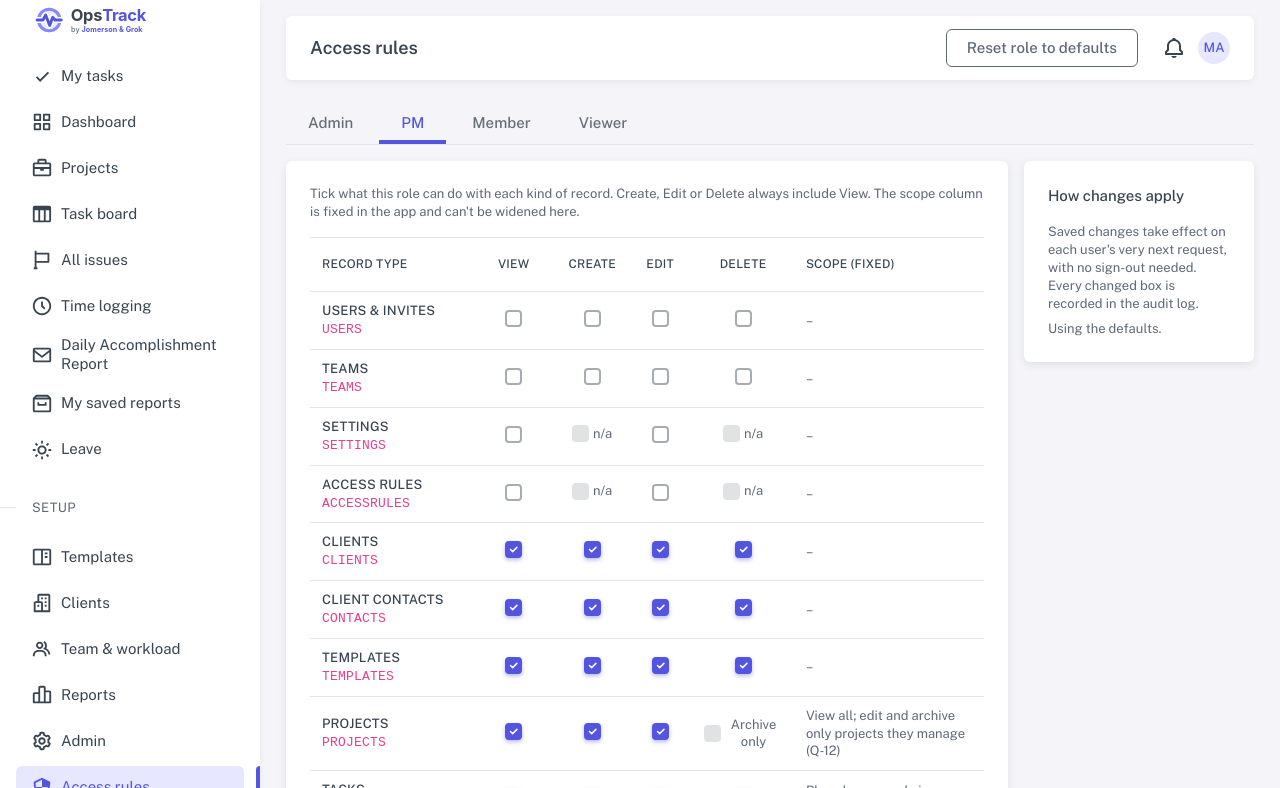
Test case: Access rules screen (doc 11, mockup v0.5.2) › FR-ACL-11 save asks for confirmation, then PUTs only changed rows with the version
The image size is (1280, 788).
Expected: the text "clients" is shown, [322,553,378,568]
Click the checkbox named "Delete Clients": [743, 550] box [735,541,752,558]
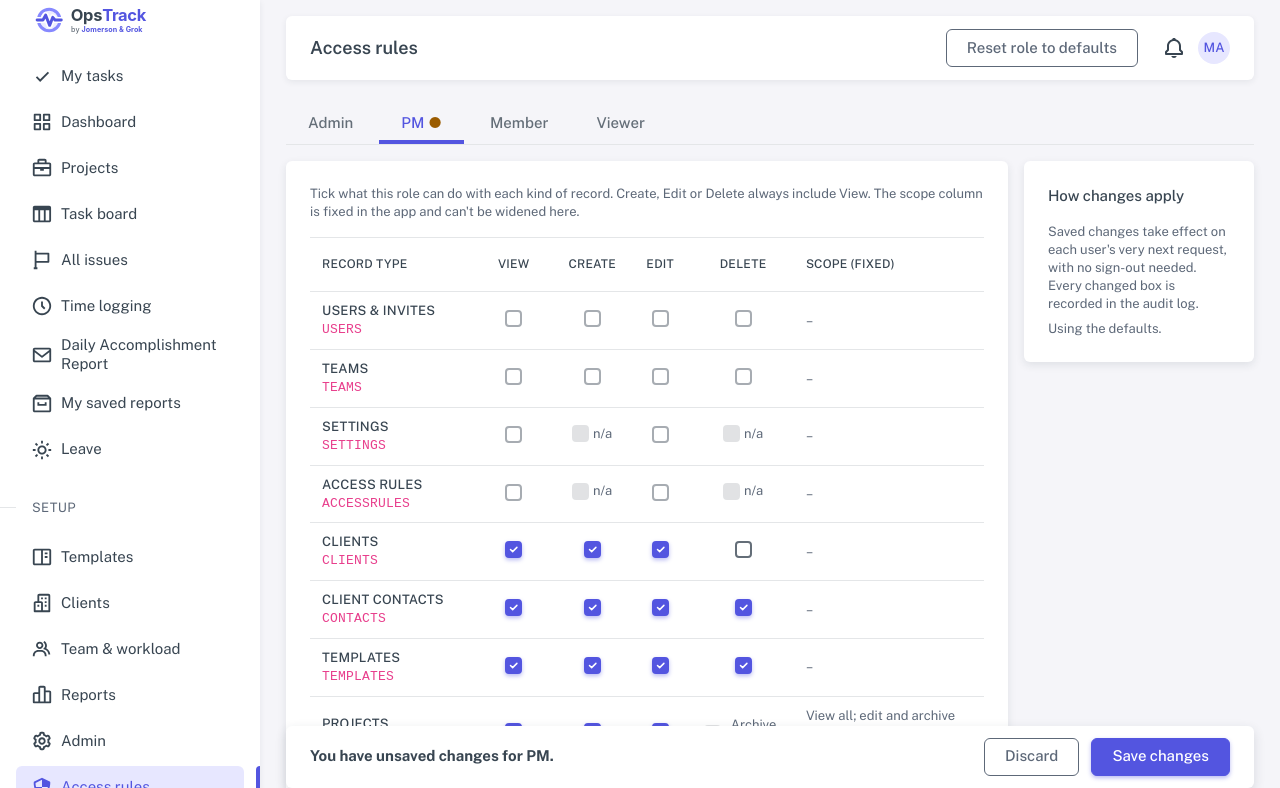
Click the button "Save changes": [1161, 757] box [1091,738,1230,776]
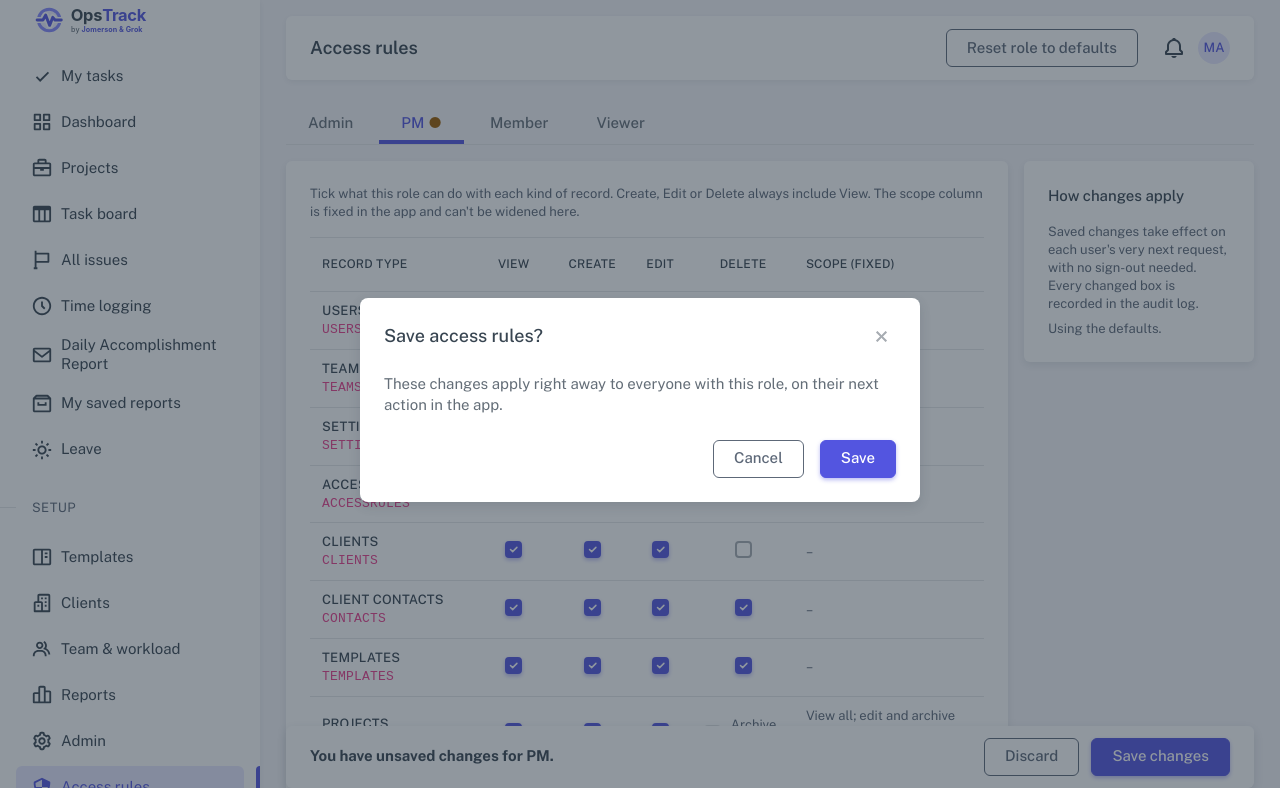
Now the heading "Save access rules?" is shown, box [384,324,543,349]
Now the text "apply right away to everyone with this role, on their next action" is shown, box [384,375,879,413]
Click the button "Save": [858, 459] box [820,440,896,478]
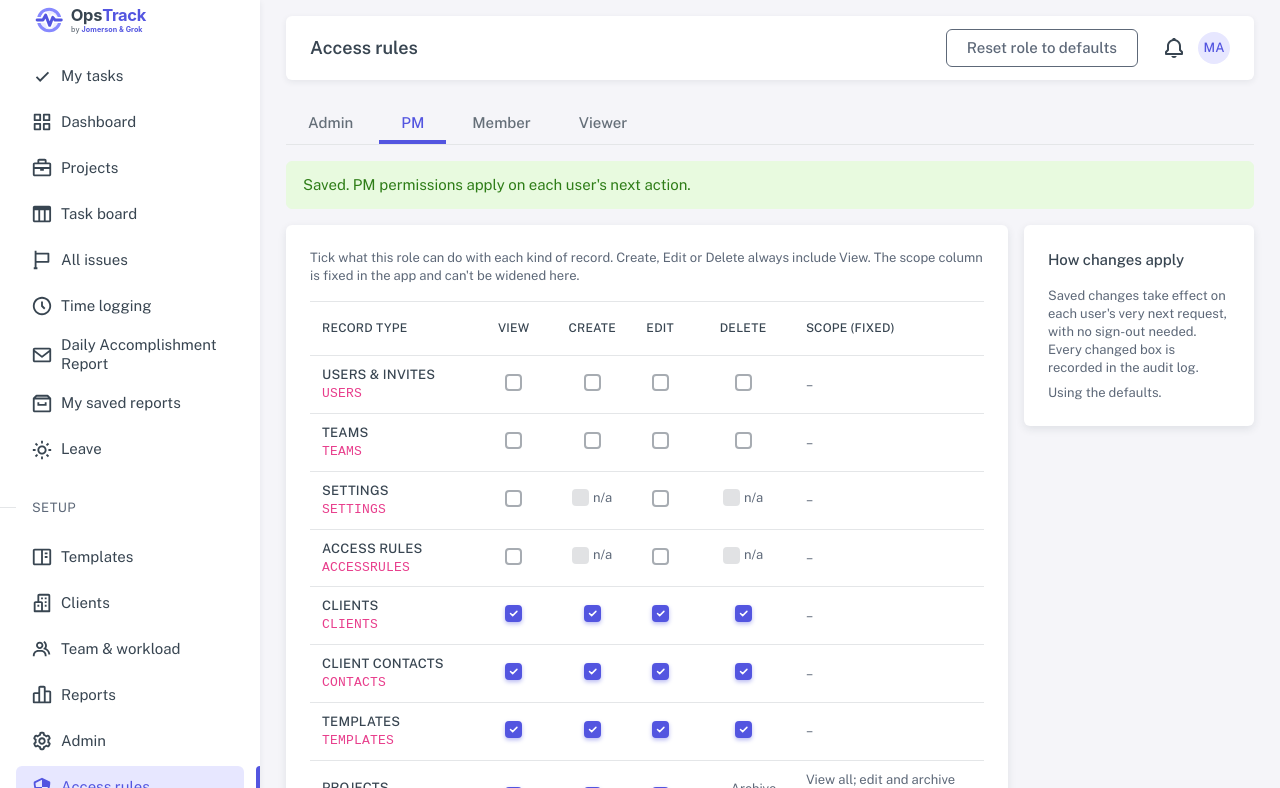
Now the text "Saved. PM permissions apply on each user's next action." is shown, box [286,161,1254,209]
Now the text "You have unsaved changes" is gone
